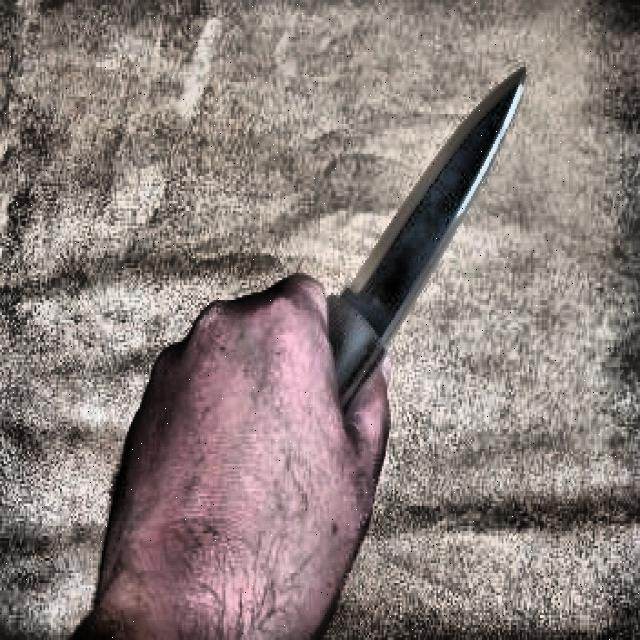knife: (330, 69, 528, 415)
